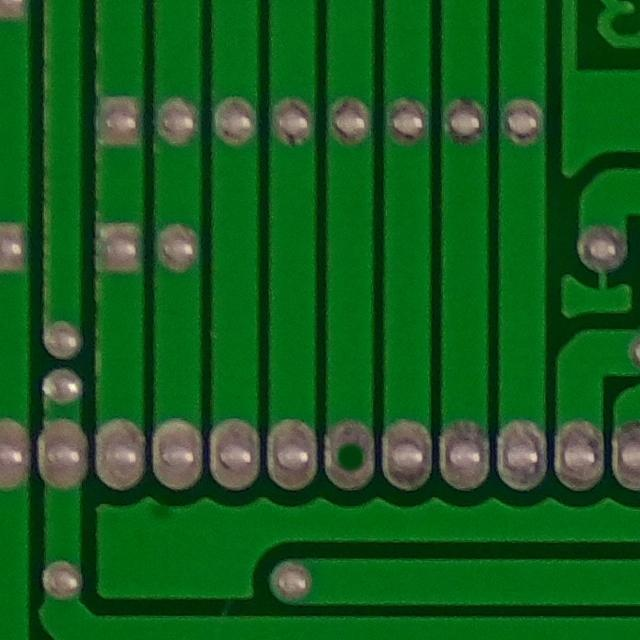missing_hole: (321, 415, 384, 493)
